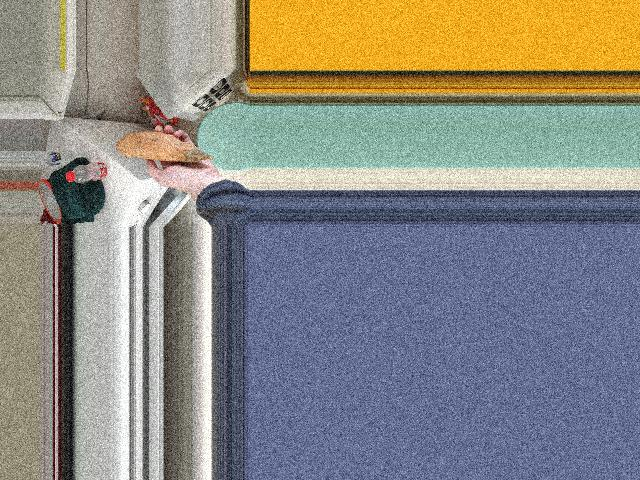sweet_potato: (125, 131, 202, 164)
